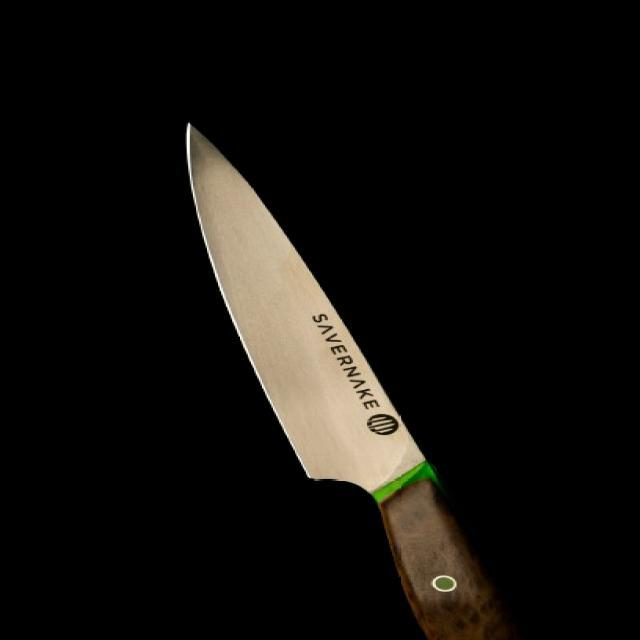knife: (186, 111, 536, 639)
